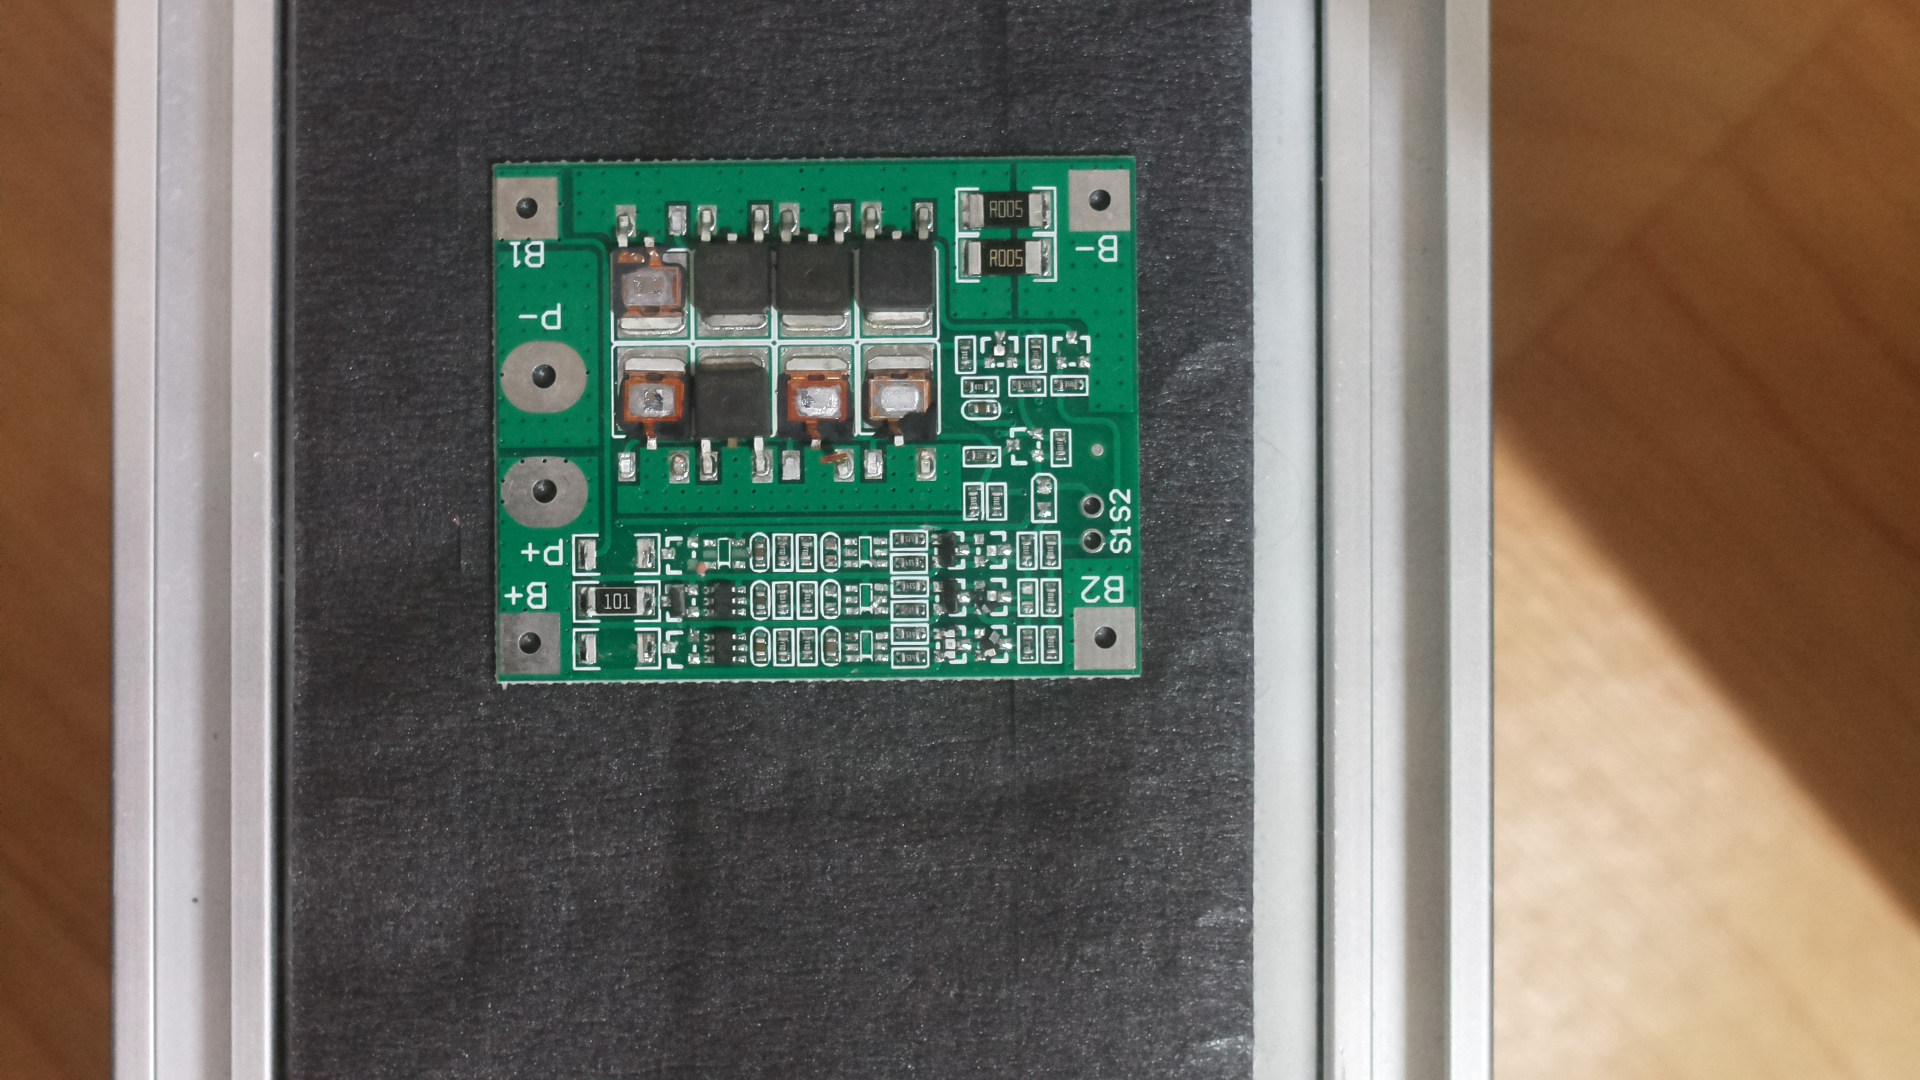C_Missing_part: (479, 135, 1159, 703)
